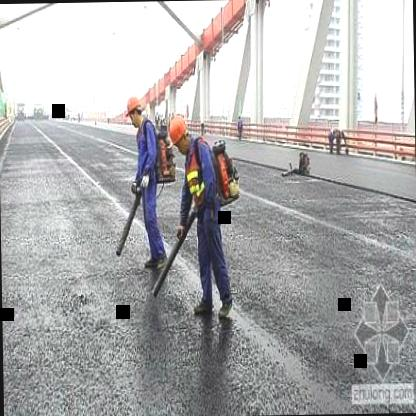helmet: (166, 112, 190, 150), (124, 92, 145, 126)
